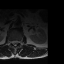CCS_normal: (13, 38, 16, 47)
LFS_normal: (18, 39, 20, 44)
LLS_normal: (16, 38, 18, 45)
RFS_normal: (10, 39, 12, 45)
RLS_normal: (12, 39, 14, 45)
